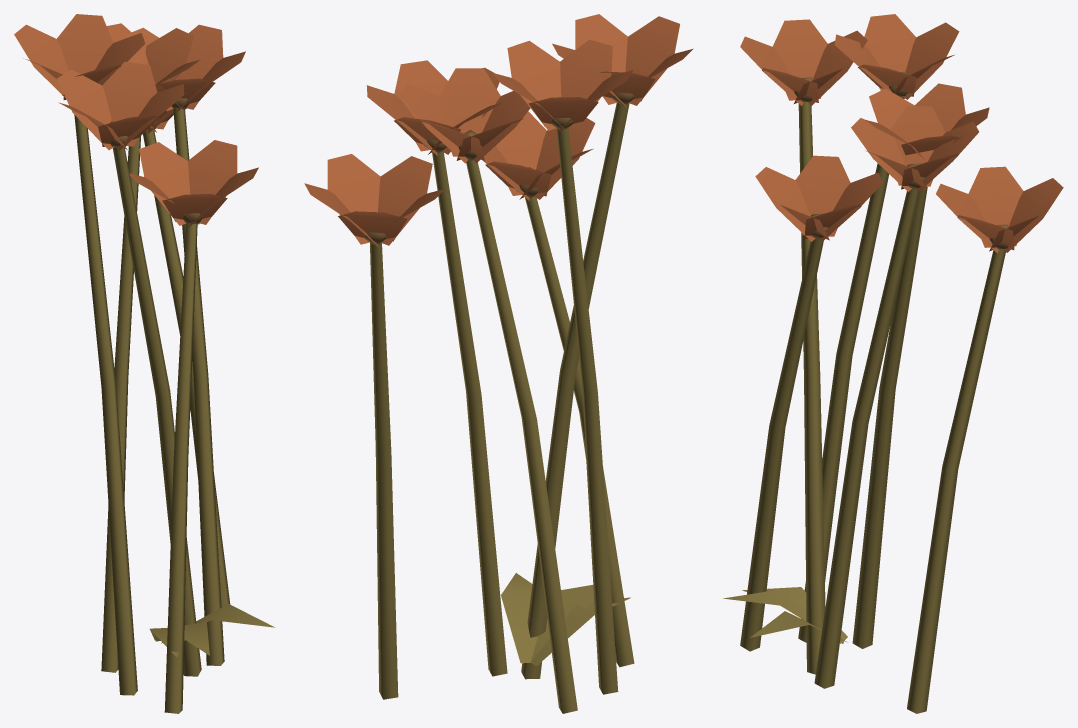
File: poppies_1_burnt1.glb
The picture shows the model from 3 angles, left to right: view 1: azimuth 30°, elevation 25°; view 2: azimuth 150°, elevation 25°; view 3: azimuth 270°, elevation 25°; orthographic projection. The views are drawn at different scales.
Visible parts, largest first — view 1: poppies_1_burnt1; view 2: poppies_1_burnt1; view 3: poppies_1_burnt1.
Part boxes in pixels (x1,y1,x2,y2): poppies_1_burnt1: (14,14,274,713); poppies_1_burnt1: (304,14,693,713); poppies_1_burnt1: (723,14,1063,713).
Bounding box in the file's own units: 0.2995 × 0.7256 × 0.3756.
